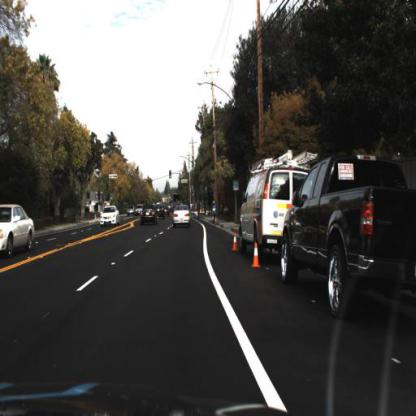biker: (212, 202, 220, 232), (210, 200, 219, 225)
car: (279, 153, 416, 328), (236, 150, 307, 262), (237, 162, 310, 249), (1, 202, 37, 259), (98, 202, 123, 232), (137, 200, 157, 229), (174, 206, 194, 233), (99, 204, 121, 227), (140, 206, 163, 227), (173, 207, 191, 227)
